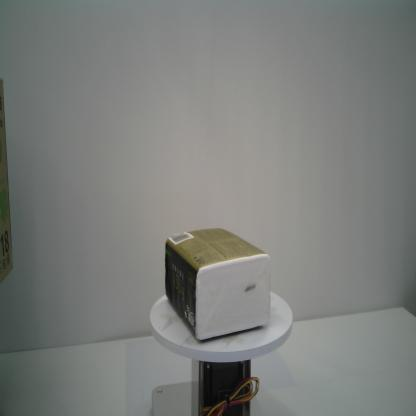Tissue: (164, 227, 272, 342)
